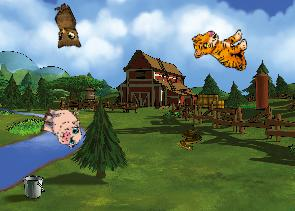owl: (41, 1, 86, 55)
pig: (36, 102, 87, 150)
tiger: (191, 24, 251, 77)
